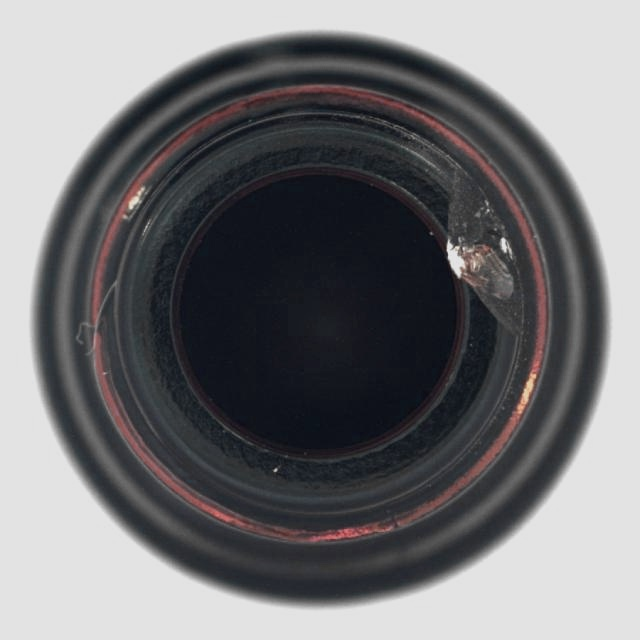bad-broken_small: (28, 30, 614, 610)
